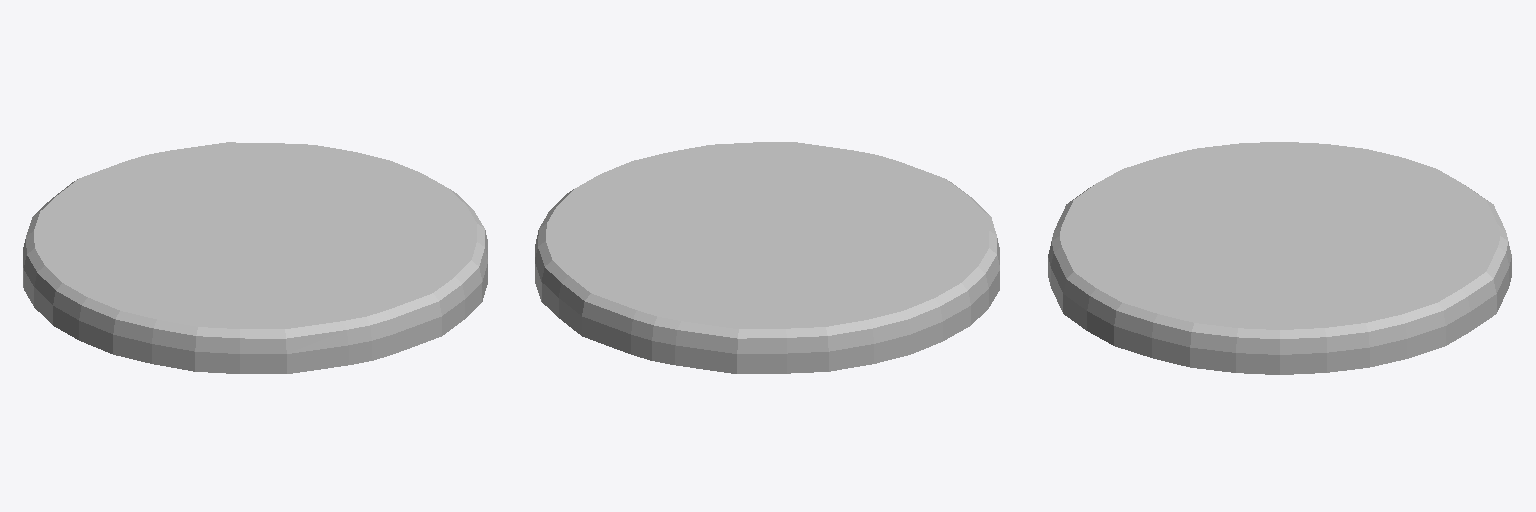
File: GalletaSeis.obj
3 views of the same model, side by side, from view 1: azimuth 30°, elevation 25°; view 2: azimuth 150°, elevation 25°; view 3: azimuth 270°, elevation 25° (orthographic).
Visible parts, largest first — view 1: polySurface12 TapaTarro:polySurface4; view 2: polySurface12 TapaTarro:polySurface4; view 3: polySurface12 TapaTarro:polySurface4.
Part boxes in pixels (left/top/right/bottom): polySurface12 TapaTarro:polySurface4: left=23, top=142, right=487, bottom=373; polySurface12 TapaTarro:polySurface4: left=535, top=142, right=999, bottom=373; polySurface12 TapaTarro:polySurface4: left=1048, top=142, right=1511, bottom=374.
Bounding box in the file's own units: 0.2226 × 0.0211 × 0.2202.